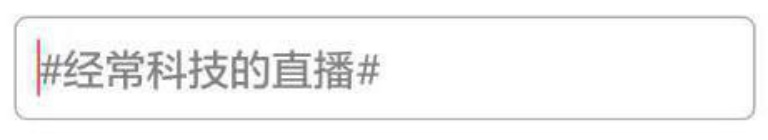EditText: (1, 1, 767, 139)
